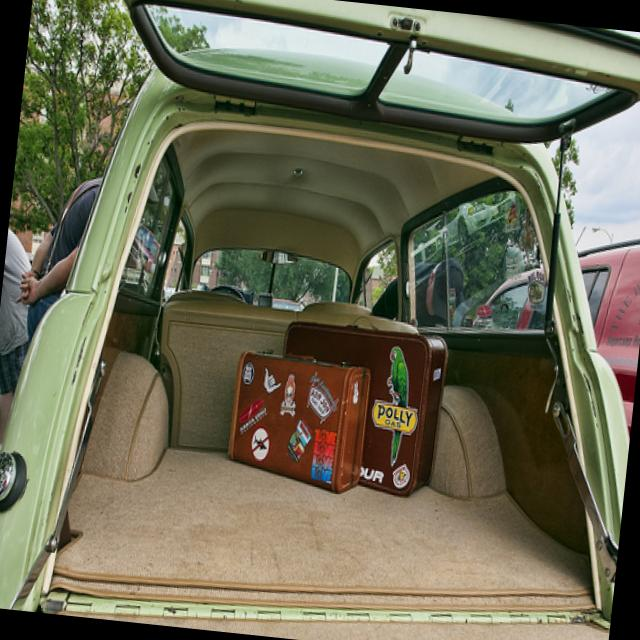Vehicle: (0, 0, 640, 640), (443, 202, 640, 602)
